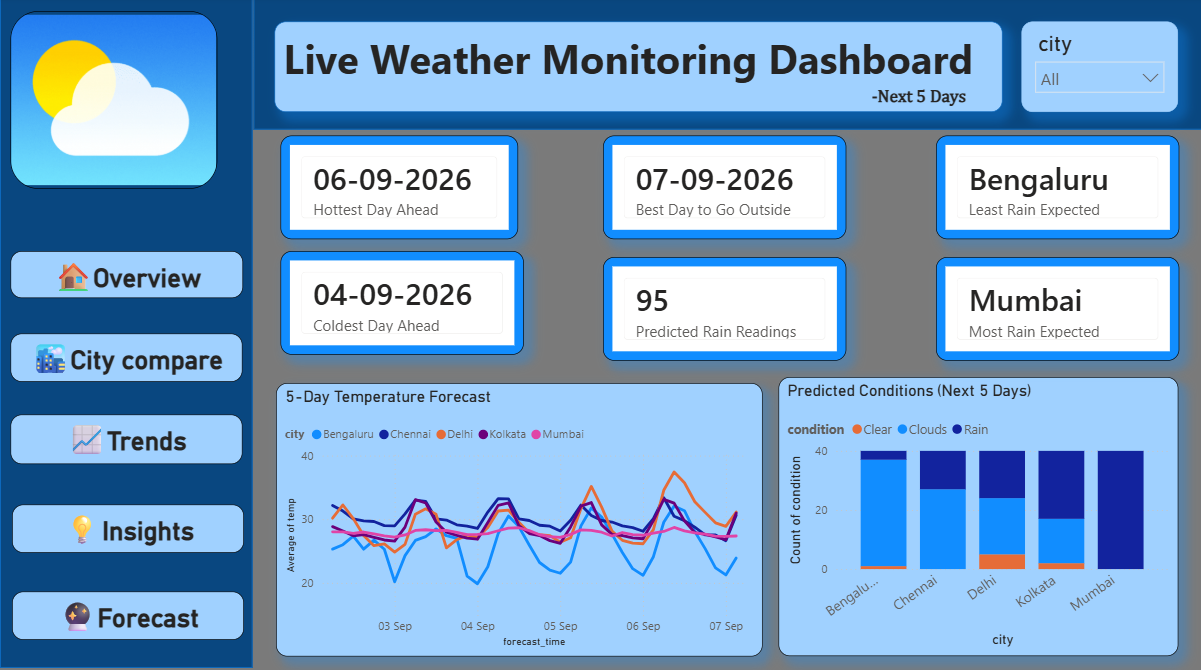

The page's visual inventory and layout, read from the dashboard file:
{"tool":"powerbi","page":{"name":"Forecast","canvas":[1280,720],"ordinal":4},"visuals":[{"type":"shape","box":[268.3,0,1012.9,141.7],"z":0},{"type":"shape","box":[0,0,267.9,712.5],"z":1000},{"type":"slicer","fields":{"Values":["forecast_log.city"]},"box":[1083.9,26.8,166.1,96],"z":2000},{"type":"textbox","box":[291.1,26.8,772,96],"z":3000},{"type":"actionButton","title":"\t🏠Overview","box":[10.7,269.6,246.4,50],"z":4000},{"type":"actionButton","title":"🏙️City compare","box":[11.3,357.2,245.7,51],"z":5000},{"type":"actionButton","title":"📈Trends ","box":[11.3,444.1,245.7,52.9],"z":6000},{"type":"actionButton","title":"💡Insights","box":[12,540,245.7,51],"z":7000},{"type":"image","box":[11.3,15.1,219.2,189],"z":8000},{"type":"actionButton","title":"🔮Forecast","box":[12,632,245.7,51],"z":9000},{"type":"lineChart","title":"5-Day Temperature Forecast","fields":{"Series":["forecast_log.city"],"Category":["forecast_log.forecast_time"],"Y":["Avg(forecast_log.temp)"]},"box":[292,410,516,290],"z":10000},{"type":"columnChart","title":"Predicted Conditions (Next 5 Days)","fields":{"Category":["forecast_log.city"],"Series":["forecast_log.condition"],"Y":["CountNonNull(forecast_log.condition)"]},"box":[826,404,424,296],"z":11000},{"type":"cardVisual","fields":{"Data":["forecast_log.Hottest Forecast Day"]},"box":[298,148,252,110],"z":12000},{"type":"cardVisual","fields":{"Data":["forecast_log.Predicted Rain Readings"]},"box":[640,276,258,110],"z":13000},{"type":"cardVisual","fields":{"Data":["forecast_log.Rainiest Forecast City"]},"box":[992,276,258,110],"z":14000},{"type":"cardVisual","fields":{"Data":["forecast_log.Best Day to Go Outside"]},"box":[640,148,258,110],"z":15000},{"type":"cardVisual","fields":{"Data":["forecast_log.Best Day to Go Outside"]},"box":[992,148,258,110],"z":16000},{"type":"cardVisual","fields":{"Data":["forecast_log.Coldest Day Ahead"]},"box":[298,270,258,110],"z":17000},{"type":"textbox","box":[920,90,116.1,41.1],"z":18000}]}

Visuals, with their boxes in screenshot pixels (x1, y1, x2, y2), scaled from the page's 1280x720 canvas onto the 1201x670 screenshot:
shape: (x1=252, y1=0, x2=1200, y2=132)
shape: (x1=0, y1=0, x2=251, y2=663)
slicer - forecast_log.city: (x1=1017, y1=25, x2=1173, y2=114)
textbox: (x1=273, y1=25, x2=997, y2=114)
"	🏠Overview" actionButton: (x1=10, y1=251, x2=241, y2=297)
"🏙️City compare" actionButton: (x1=11, y1=332, x2=241, y2=380)
"📈Trends " actionButton: (x1=11, y1=413, x2=241, y2=462)
"💡Insights" actionButton: (x1=11, y1=502, x2=242, y2=550)
image: (x1=11, y1=14, x2=216, y2=190)
"🔮Forecast" actionButton: (x1=11, y1=588, x2=242, y2=636)
"5-Day Temperature Forecast" lineChart: (x1=274, y1=382, x2=758, y2=651)
"Predicted Conditions (Next 5 Days)" columnChart: (x1=775, y1=376, x2=1173, y2=651)
cardVisual - forecast_log.Hottest Forecast Day: (x1=280, y1=138, x2=516, y2=240)
cardVisual - forecast_log.Predicted Rain Readings: (x1=600, y1=257, x2=843, y2=359)
cardVisual - forecast_log.Rainiest Forecast City: (x1=931, y1=257, x2=1173, y2=359)
cardVisual - forecast_log.Best Day to Go Outside: (x1=600, y1=138, x2=843, y2=240)
cardVisual - forecast_log.Best Day to Go Outside: (x1=931, y1=138, x2=1173, y2=240)
cardVisual - forecast_log.Coldest Day Ahead: (x1=280, y1=251, x2=522, y2=354)
textbox: (x1=863, y1=84, x2=972, y2=122)
